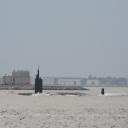submarine: (19, 64, 106, 96)
